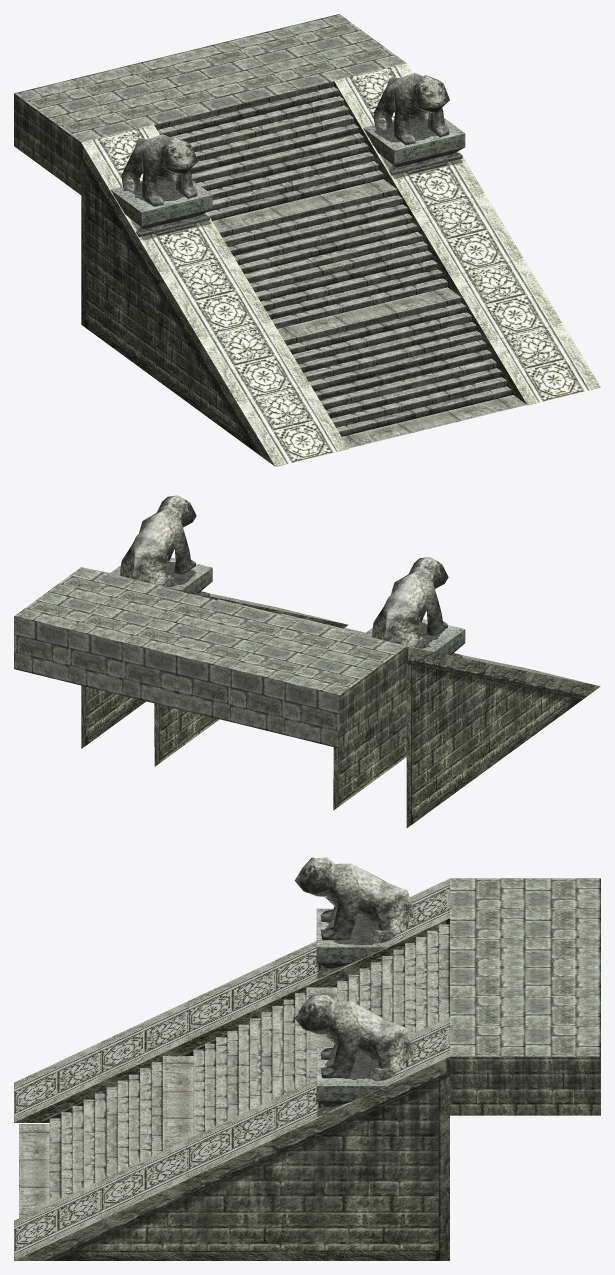
The model's file is c1-002-inwall-02.fbx.
3 renders of one model, top to bottom at view 1: azimuth 30°, elevation 25°; view 2: azimuth 150°, elevation 25°; view 3: azimuth 270°, elevation 25°, orthographic. The views are drawn at different scales.
Parts seen in each view (by area): view 1: 11; view 2: 11; view 3: 11.
Part boxes in pixels (x1,y1,x2,y2): 11: (14,14,600,466); 11: (14,495,600,828); 11: (14,857,600,1260).
Bounding box in the file's own units: 11.38 × 7.39 × 15.85.
